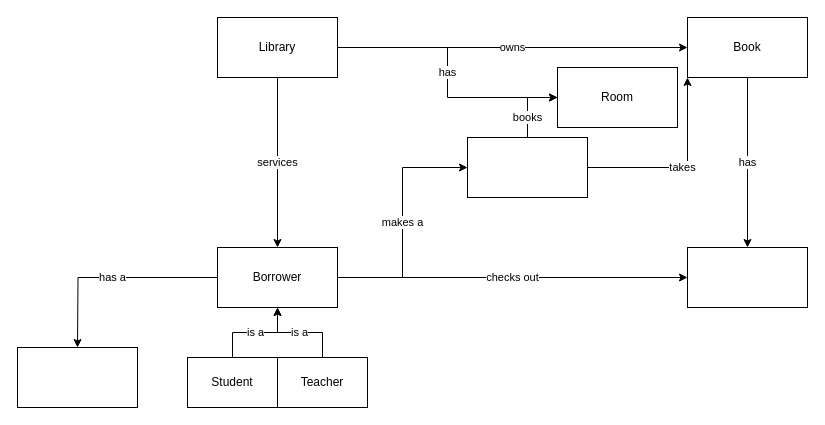
Some shapes in this 825 by 425 pixel diagram are drawn without their labels. The shapes that lost their labels are listed below. From the top down, each one's box as (x1, y1, x2, y2) in pixels, then its label:
(466, 136, 588, 198): Reservation
(686, 246, 808, 308): Copy
(16, 346, 138, 408): LibraryCard
